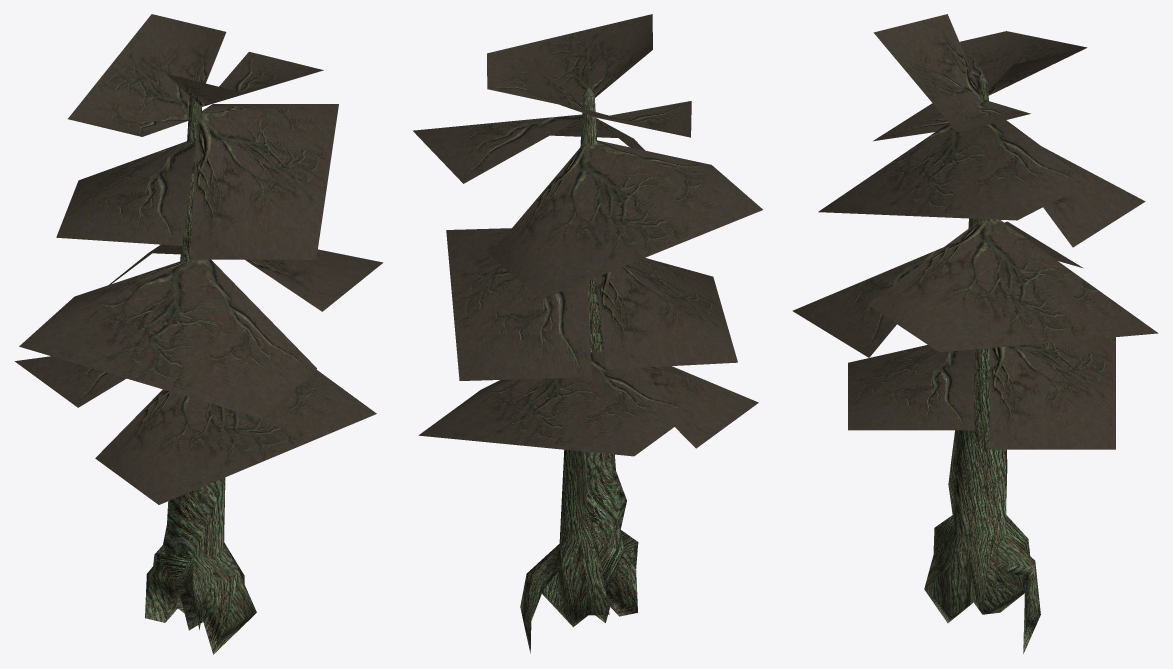
File: decd_dath_humungtree_a1_l2.fbx
3 views of the same model, side by side, from view 1: azimuth 30°, elevation 25°; view 2: azimuth 150°, elevation 25°; view 3: azimuth 270°, elevation 25° (orthographic).
Visible parts, largest first — view 1: mesh_node; view 2: mesh_node; view 3: mesh_node.
Part boxes in pixels (left/top/right/bottom): mesh_node: left=14, top=14, right=383, bottom=654; mesh_node: left=413, top=14, right=762, bottom=653; mesh_node: left=792, top=14, right=1158, bottom=653.
Bounding box in the file's own units: 44.63 × 78.28 × 43.38.
Materials: 2 (2 with a texture image).
